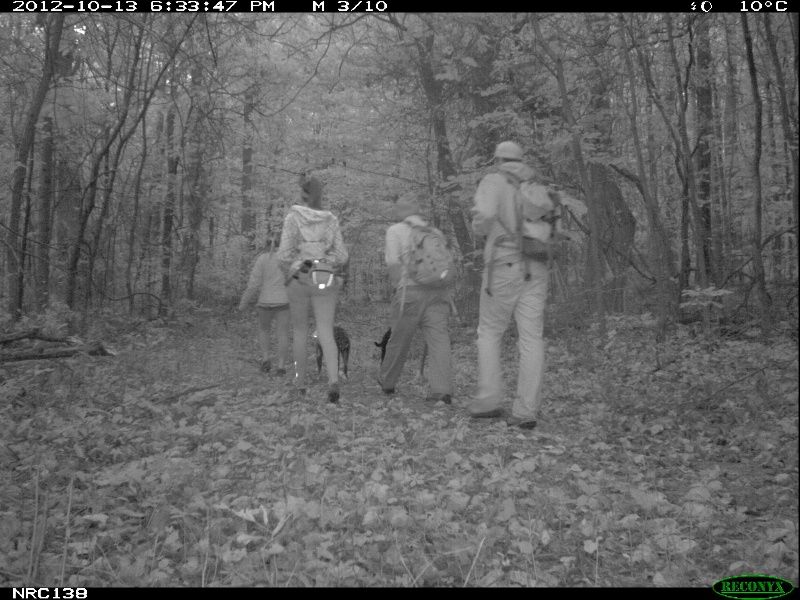dog: (306, 319, 355, 381), (373, 325, 399, 361)
human: (465, 137, 558, 436), (278, 177, 350, 409), (382, 195, 461, 406), (235, 230, 292, 383)
human legs: (472, 244, 552, 435), (379, 285, 458, 400), (284, 273, 345, 404), (255, 302, 290, 377)
